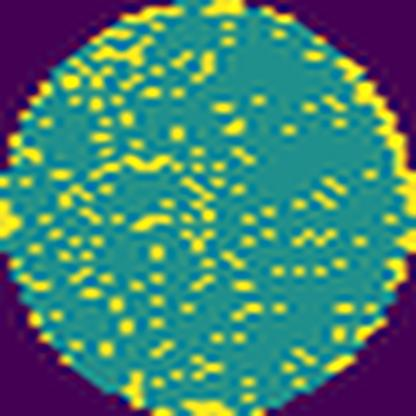Edge-Loc: (332, 52, 416, 259), (168, 393, 241, 416), (0, 193, 21, 244)
